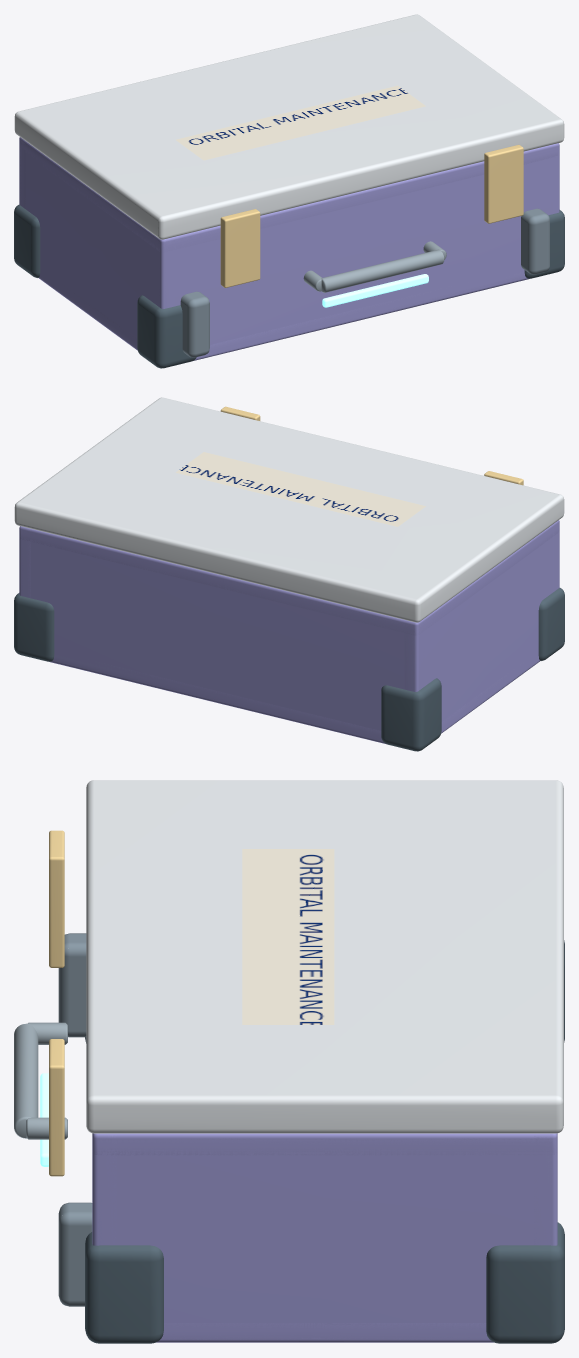
The model's file is maintenance_kit.glb.
3 renders of one model, top to bottom at view 1: azimuth 30°, elevation 25°; view 2: azimuth 150°, elevation 25°; view 3: azimuth 270°, elevation 25°, orthographic. The views are drawn at different scales.
Parts seen in each view (by area): view 1: Toolkit_Lid_Panel, Toolkit_Front, Toolkit_Left, Toolkit_Label, Toolkit_Top, Toolkit_Bottom, Toolkit_LatchTab-0.2013, Toolkit_LatchTab0.2013, Toolkit_Corner-0.28060.1634, Toolkit_Carry_Grip, Toolcase_Bumper_2, Toolcase_Bumper (+3 smaller); view 2: Toolkit_Lid_Panel, Toolkit_Rear, Toolkit_Left, Toolkit_Top, Toolkit_Label, Toolkit_Bottom, Toolkit_Corner-0.2806-0.1634, Toolkit_Corner0.2806-0.1634, Toolkit_Corner-0.28060.1634, Toolkit_Right; view 3: Toolkit_Lid_Panel, Toolkit_Right, Toolkit_Label, Toolkit_Top, Toolkit_Corner0.2806-0.1634, Toolkit_Corner0.28060.1634, Toolkit_Bottom, Toolcase_Bumper_2, Toolcase_Bumper, Toolkit_Carry_Grip, Toolkit_LatchTab-0.2013, Toolkit_LatchTab0.2013 (+2 smaller).
Boxes of the visible parts, x1,y1,x2,y2 form: Toolkit_Lid_Panel: (14,14,564,239); Toolkit_Front: (155,151,557,357); Toolkit_Left: (19,146,174,345); Toolkit_Label: (176,85,425,160); Toolkit_Top: (19,137,559,252); Toolkit_Bottom: (39,271,529,361); Toolkit_LatchTab-0.2013: (220,209,260,287); Toolkit_LatchTab0.2013: (484,144,523,223); Toolkit_Corner-0.28060.1634: (137,295,196,368); Toolkit_Carry_Grip: (321,249,444,292); Toolcase_Bumper_2: (521,208,549,274); Toolcase_Bumper: (180,291,209,357); Toolkit_Lid_Panel: (14,397,564,622); Toolkit_Rear: (21,530,424,740); Toolkit_Left: (404,523,559,730); Toolkit_Top: (19,520,559,635); Toolkit_Label: (176,452,425,526); Toolkit_Bottom: (50,654,539,744); Toolkit_Corner-0.2806-0.1634: (381,678,441,751); Toolkit_Corner0.2806-0.1634: (14,593,54,661); Toolkit_Corner-0.28060.1634: (538,588,564,660); Toolkit_Right: (19,527,30,598); Toolkit_Lid_Panel: (86,780,563,1133); Toolkit_Right: (92,1133,557,1339); Toolkit_Label: (242,849,334,1024); Toolkit_Top: (92,1133,557,1155); Toolkit_Corner0.2806-0.1634: (486,1222,564,1343); Toolkit_Corner0.28060.1634: (85,1232,163,1343); Toolkit_Bottom: (156,1323,493,1342); Toolcase_Bumper_2: (58,1202,92,1306); Toolcase_Bumper: (58,933,86,1037); Toolkit_Carry_Grip: (14,1023,38,1138); Toolkit_LatchTab-0.2013: (49,830,64,967); Toolkit_LatchTab0.2013: (49,1039,64,1176).
Bounding box in the file's own units: 0.6262 × 0.225 × 0.4499.
Materials: 9 (1 with a texture image).
